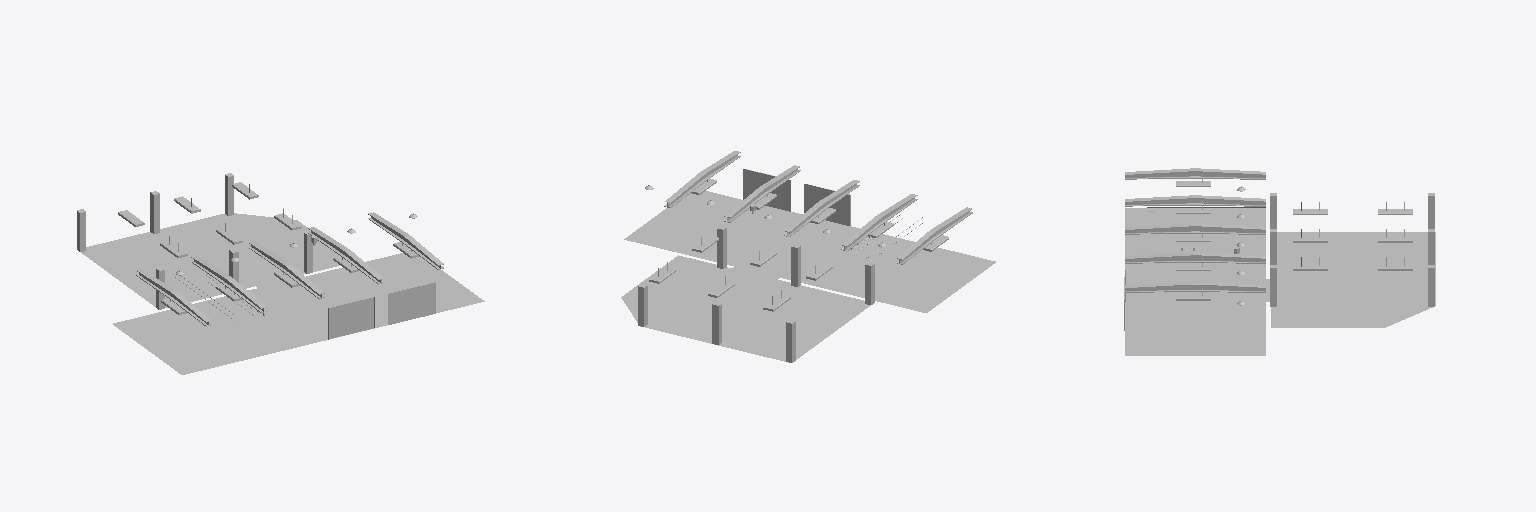
The model's file is body.obj.
3 views of the same model, side by side, from view 1: azimuth 30°, elevation 25°; view 2: azimuth 150°, elevation 25°; view 3: azimuth 270°, elevation 25° (orthographic).
Visible parts, largest first — view 1: Plane.038_Plane.042, Plane.012_Plane.013, Plane.040_Plane.044, Plane.010_Plane.011, Plane.009_Plane.010; view 2: Plane.038_Plane.042, Plane.012_Plane.013, Plane.040_Plane.044, Plane.010_Plane.011, Plane.009_Plane.010; view 3: Plane.038_Plane.042, Plane.012_Plane.013, Plane.040_Plane.044.
Part boxes in pixels (x1,y1,x2,y2): Plane.038_Plane.042: (81,213,484,374); Plane.012_Plane.013: (136,212,443,326); Plane.040_Plane.044: (77,173,312,309); Plane.010_Plane.011: (388,282,435,324); Plane.009_Plane.010: (328,297,374,339); Plane.038_Plane.042: (621,191,995,362); Plane.012_Plane.013: (664,151,972,264); Plane.040_Plane.044: (638,226,874,362); Plane.010_Plane.011: (743,169,790,211); Plane.009_Plane.010: (804,184,850,225); Plane.038_Plane.042: (1125,208,1435,355); Plane.012_Plane.013: (1125,168,1265,292); Plane.040_Plane.044: (1270,193,1434,306).
Bounding box in the file's own units: 63.01 × 10.23 × 56.05.